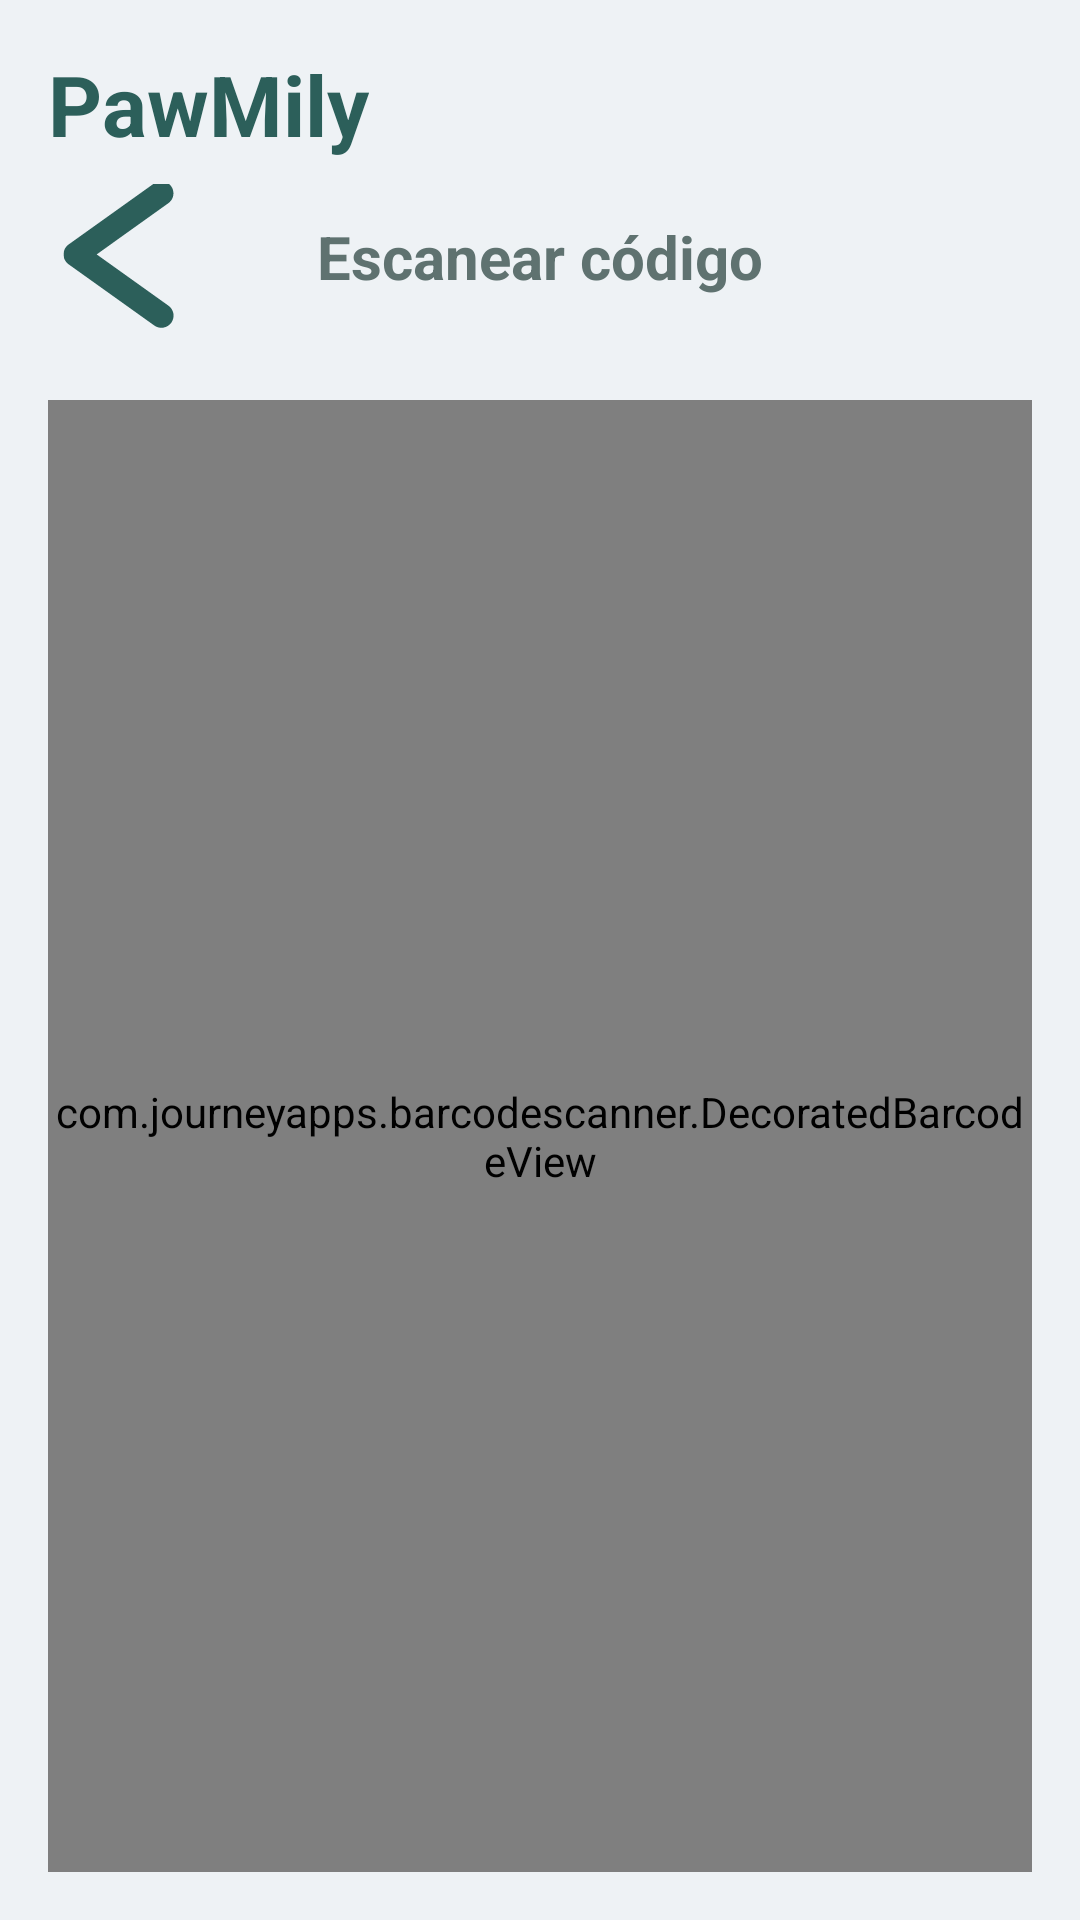

Named icons in this screenshot (1080x1920) and their centers, (x=x, y=y):
Volver: (x=118, y=256)
